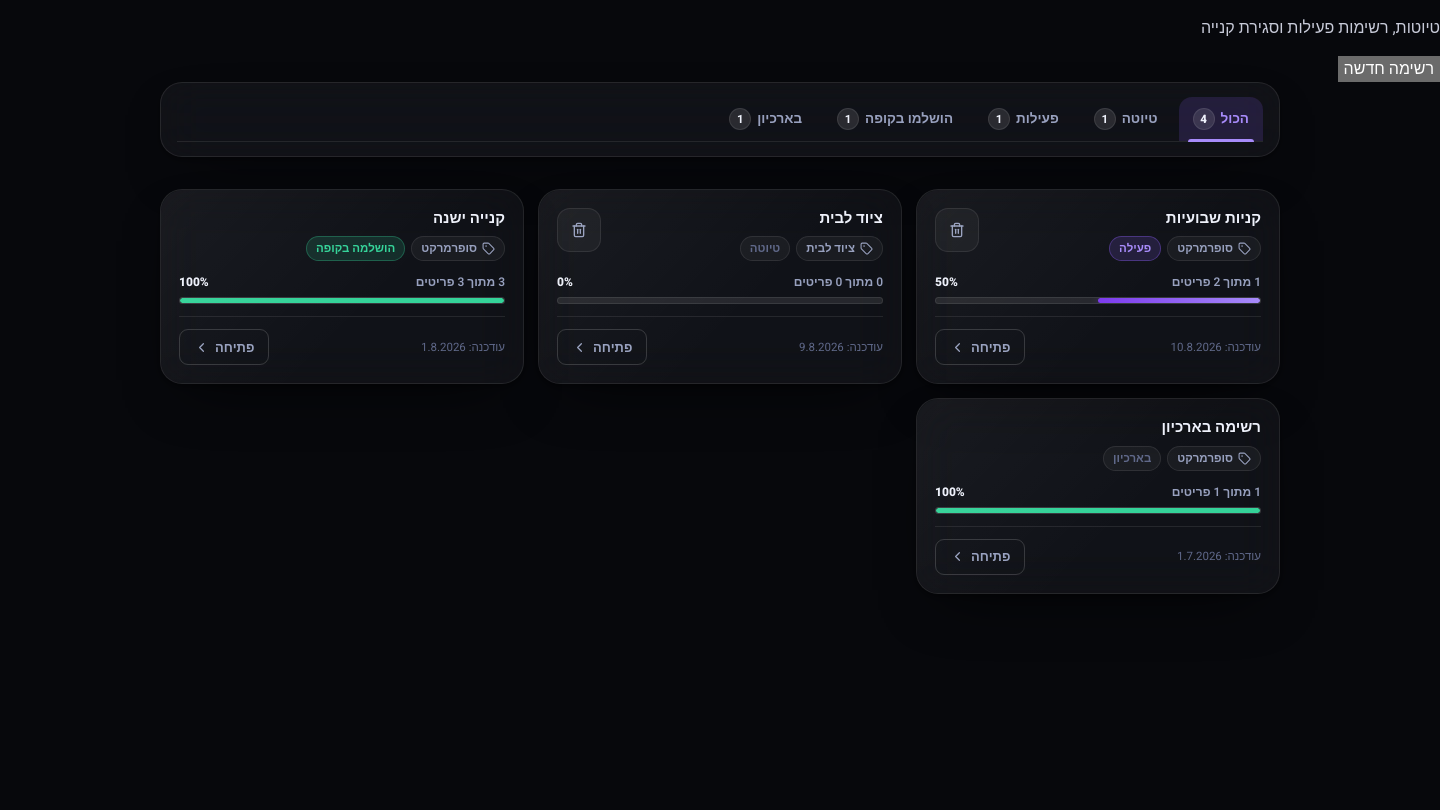
it: Shopping checkout safety › uses purchased-only total, optional financial links, unchanged payload, and blocks duplicate checkout
Click the button "פתיחה" next to "10.8.2026". click: [980, 347]
box: [935,329,1025,365]
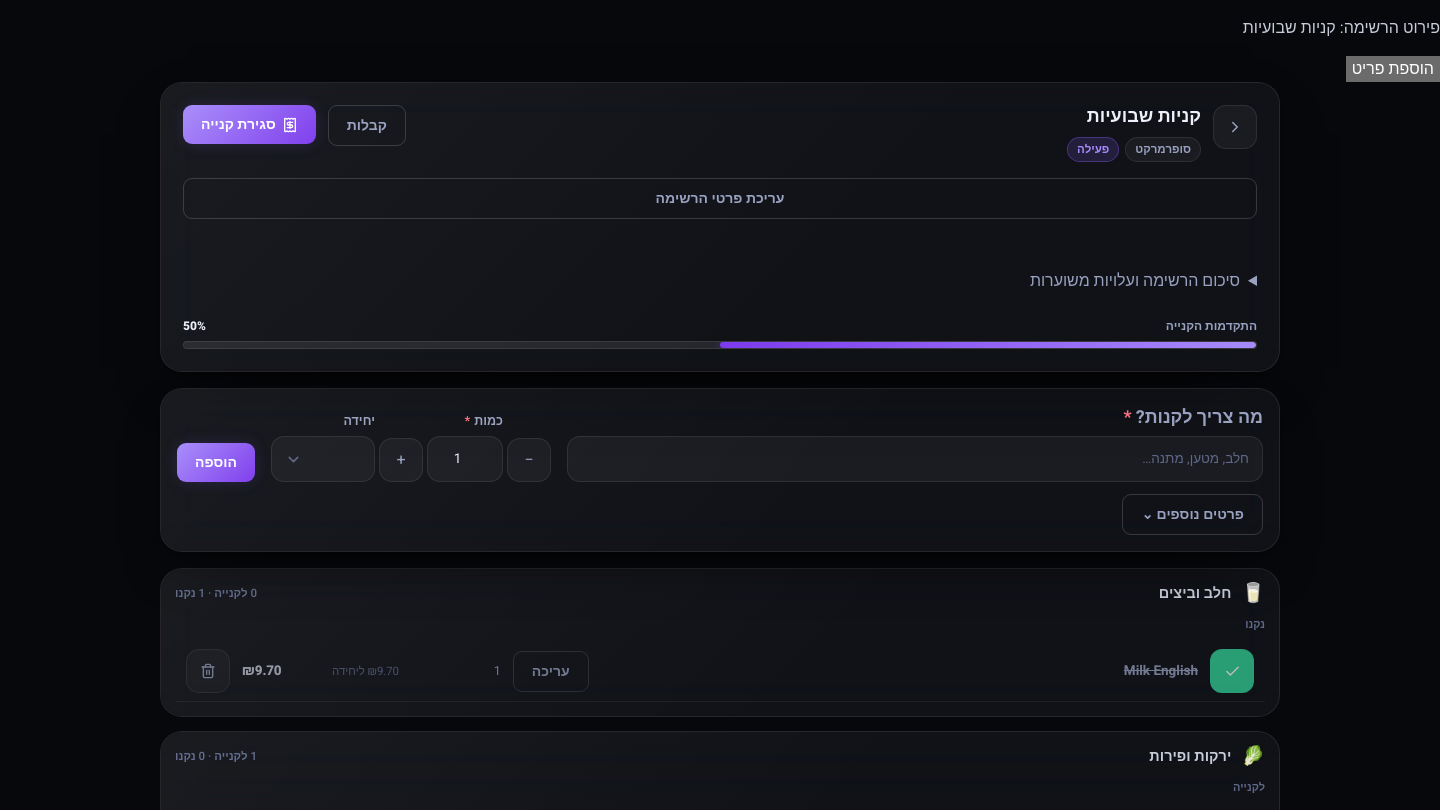
Click the button "סגירת קנייה". click: [249, 124]
box: [183,105,316,144]
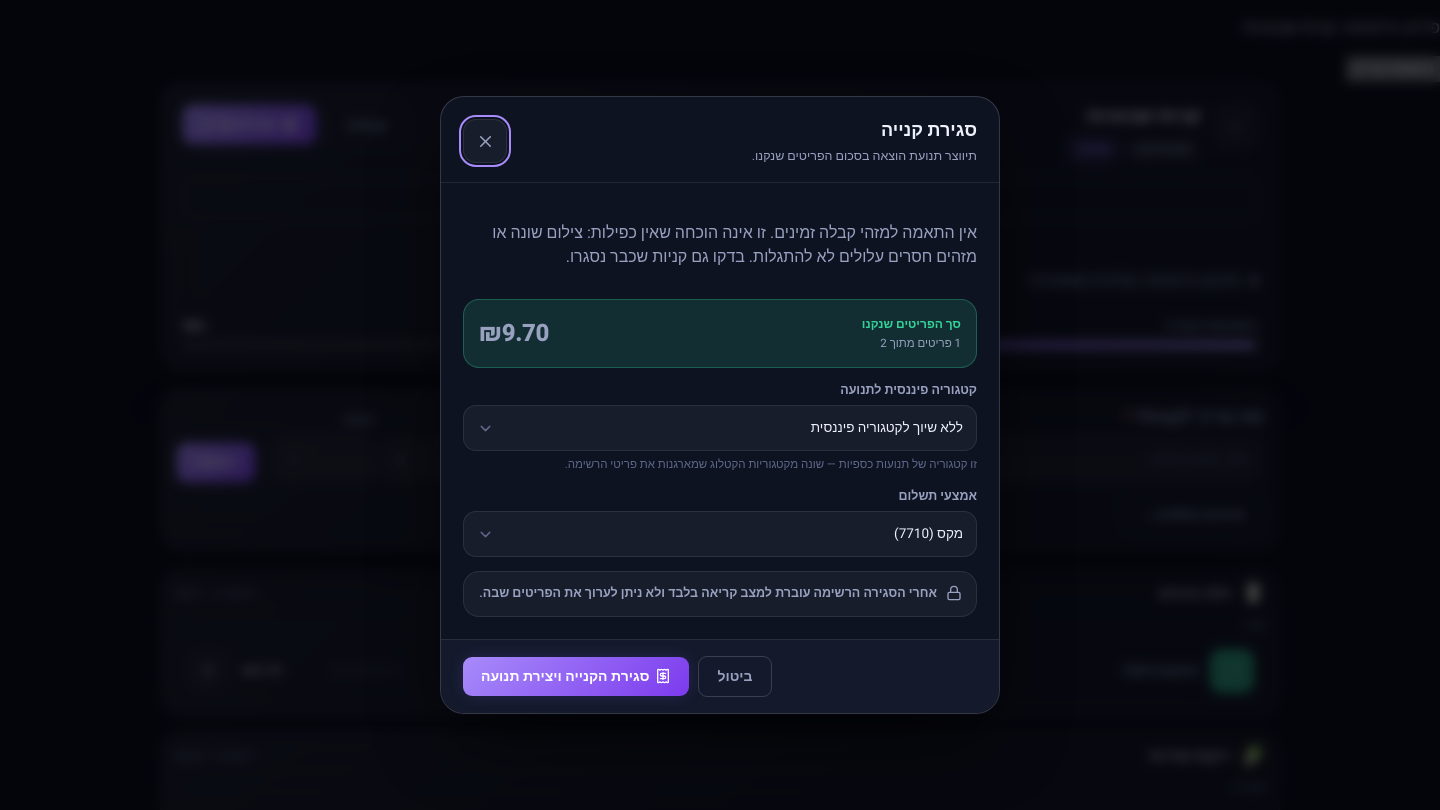
Check: the text "₪9.70" is shown, box [479,316,549,350]
Check: the text "קטגוריה של תנועות כספיות" is shown, box [565,456,977,473]
Select "🍔 מזון" in the dropdown labelled "קטגוריה פיננסית לתנועה". click: [733, 428]
box: [503,418,963,438]
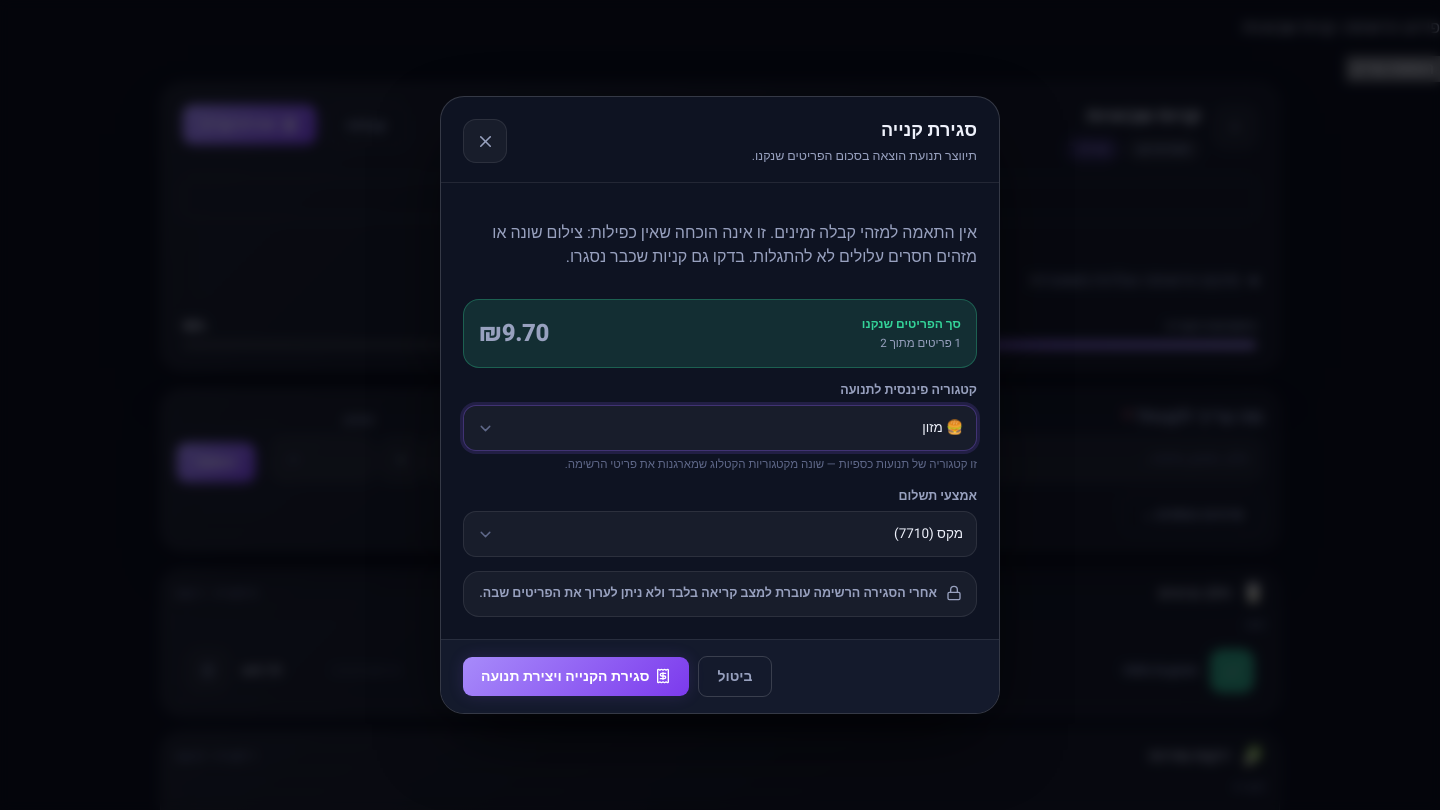
Check: the dropdown labelled "אמצעי תשלום" shows "מקס (7710)", box [503,524,963,544]
Click the button "סגירת הקנייה ויצירת תנועה". click: [576, 676]
box: [463,657,690,696]
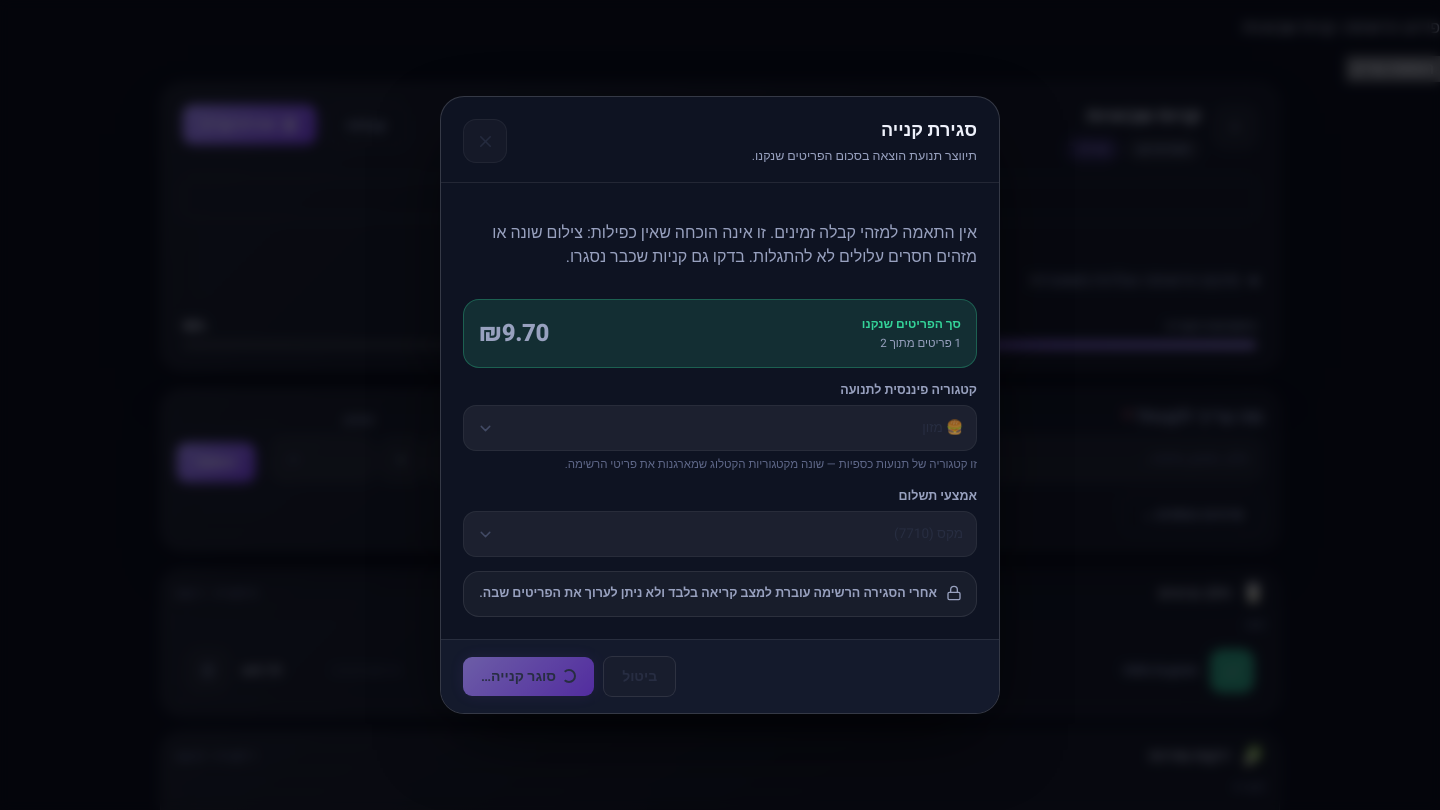
Click the button named "סגירת הקנייה ויצירת תנועה". click: [529, 676]
box: [463,657,594,696]
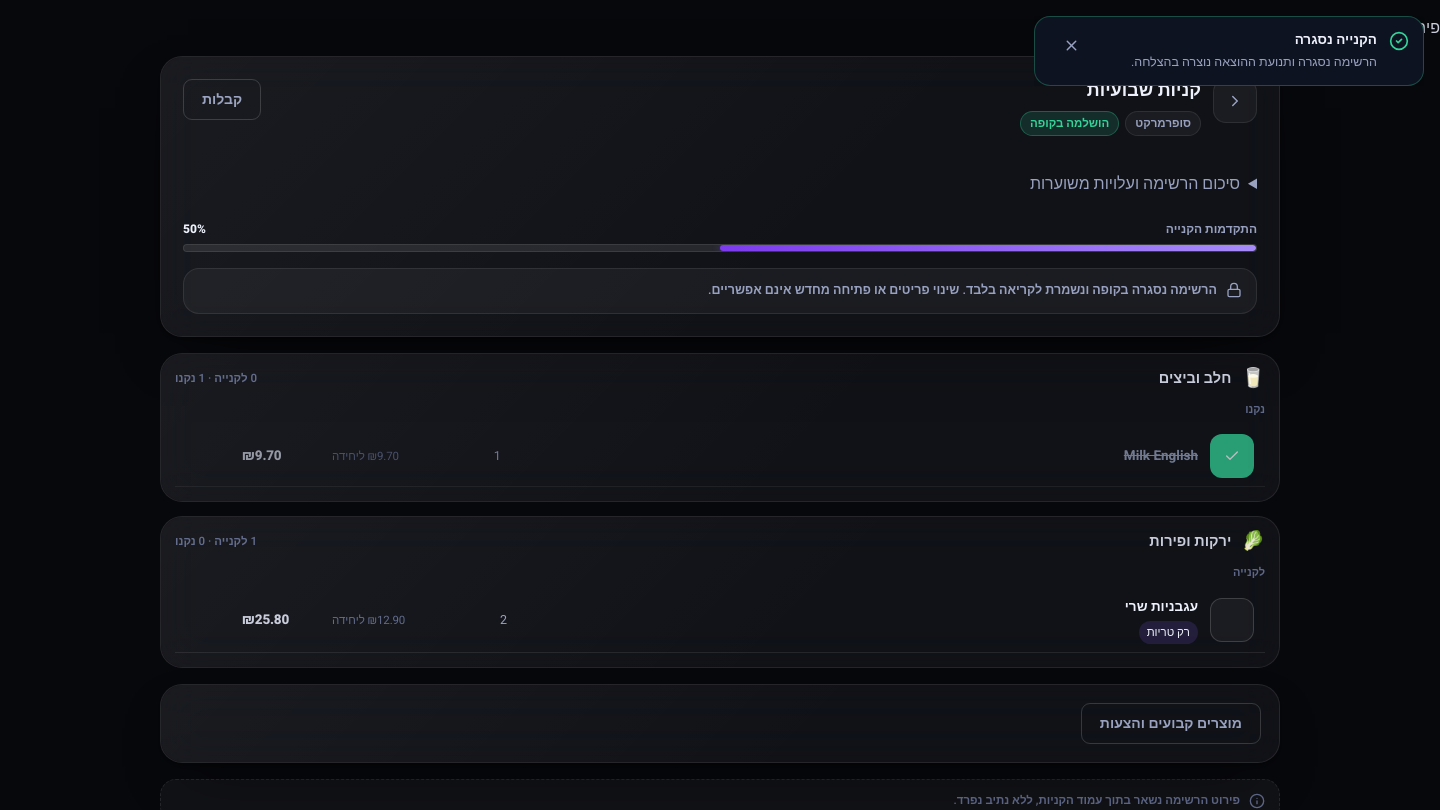
Check: the text "הקנייה נסגרה" is shown, box [1295,30,1377,50]
Check: the text "נשמרת לקריאה בלבד" is shown, box [708,281,1217,299]
